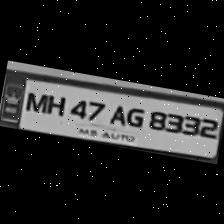2: (194, 112, 218, 142)
3: (164, 106, 185, 136), (180, 108, 200, 138)
4: (66, 93, 90, 121)
7: (81, 96, 107, 124)
8: (144, 106, 169, 132)
A: (104, 100, 130, 128)
G: (122, 101, 148, 128)
H: (38, 88, 66, 116)
M: (23, 86, 47, 114)
